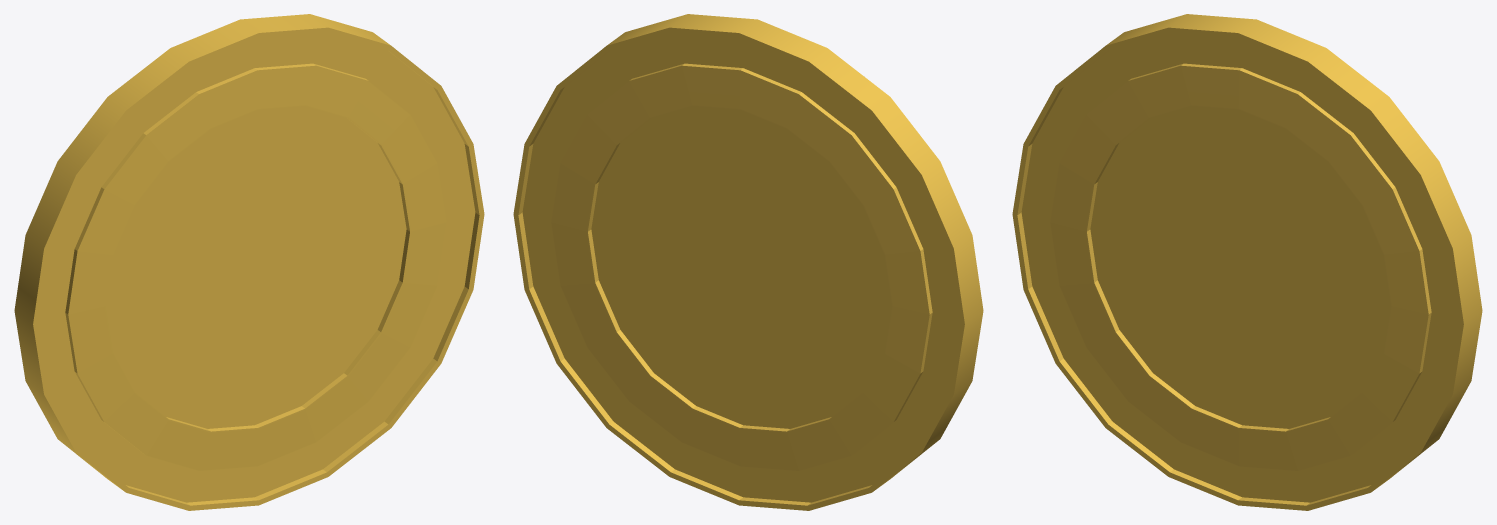
The model's file is coinGold.fbx.
The picture shows the model from 3 angles, left to right: view 1: azimuth 30°, elevation 25°; view 2: azimuth 150°, elevation 25°; view 3: azimuth 330°, elevation 25°; orthographic projection.
Parts seen in each view (by area): view 1: geo_coin; view 2: geo_coin; view 3: geo_coin.
Part boxes in pixels (box(x1,y1,x2,y2)): geo_coin: box(14, 14, 484, 510); geo_coin: box(513, 14, 983, 510); geo_coin: box(1012, 14, 1482, 510).
Size of the model in its own units: 17.99 by 17.99 by 1.28.
